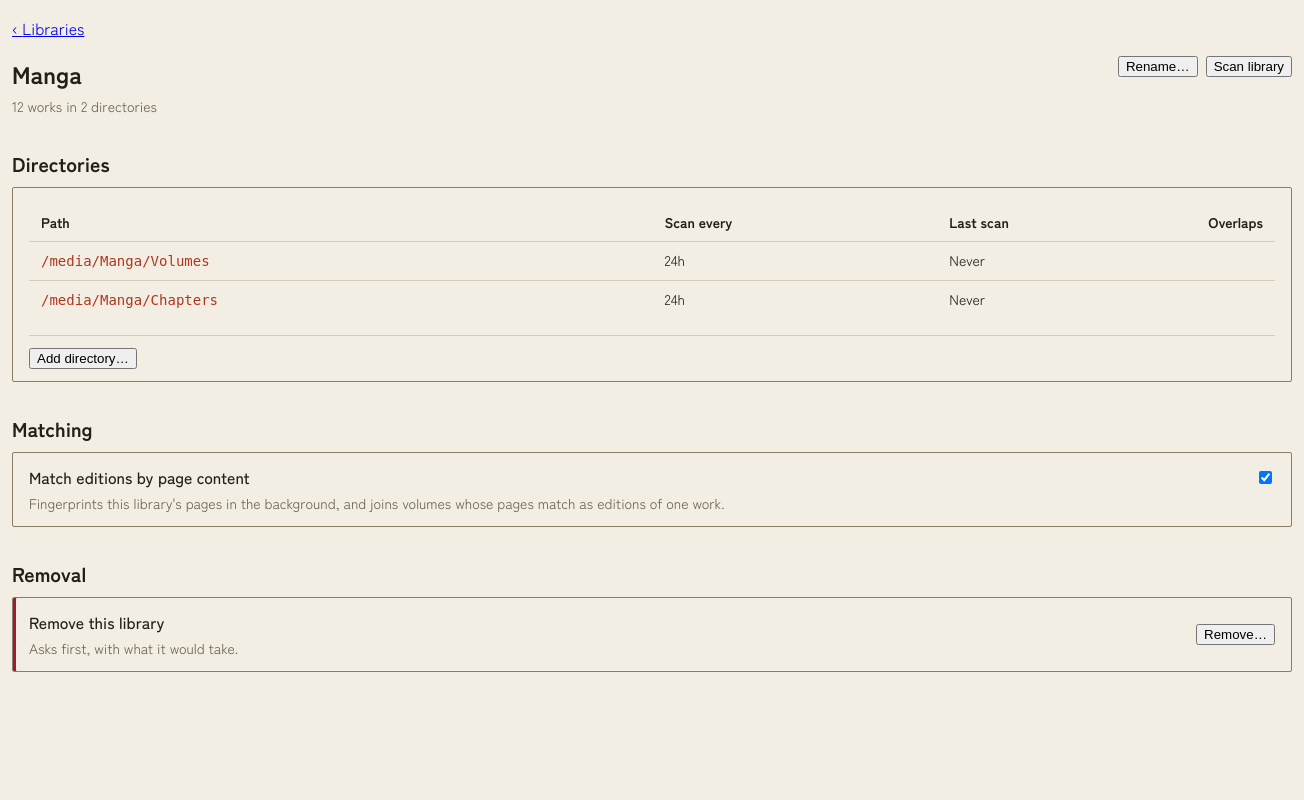
Test: LibraryPage, a library and its directories › draws one Add directory…, and the picker only once it is pressed
The width and height of the screenshot is (1304, 800).
Click the button named "add-dir" at (83, 358), box x1=29 y1=348 x2=137 y2=369
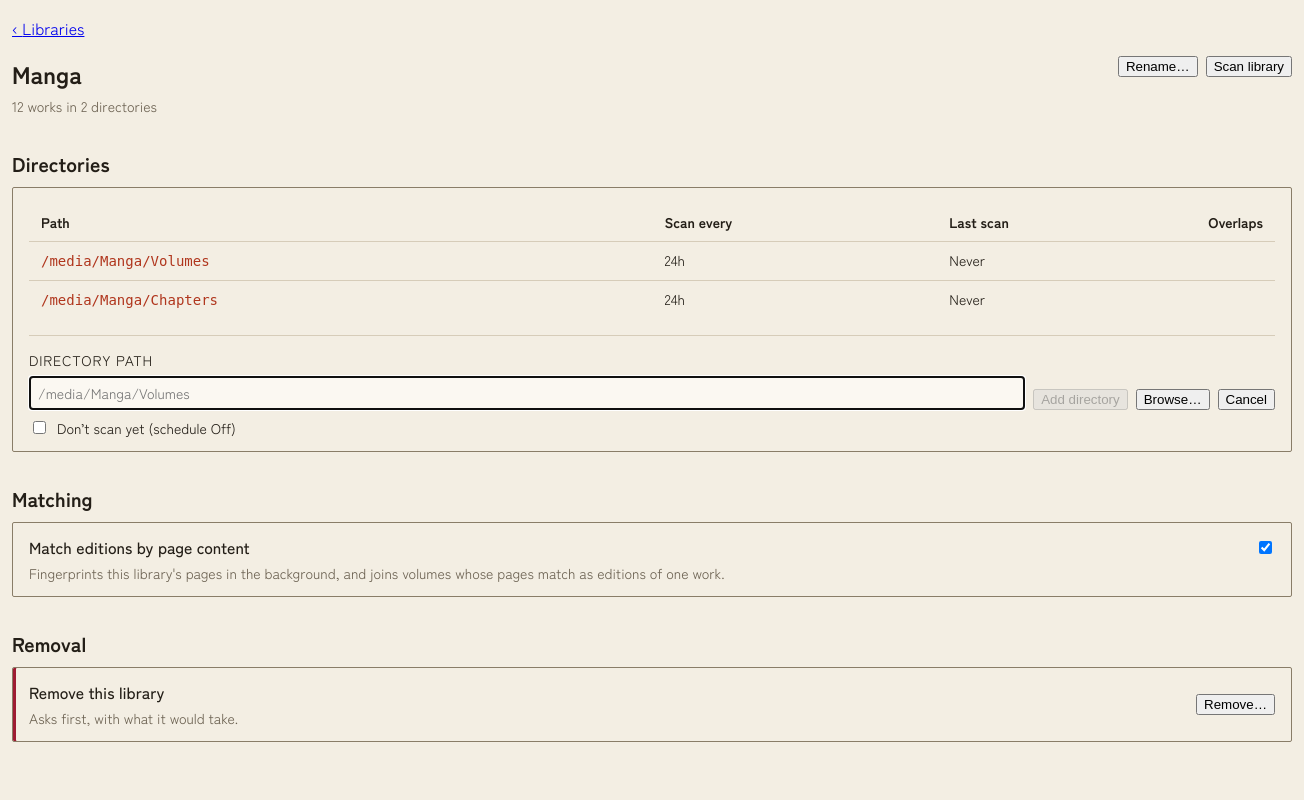
Expected: the button named "pick" reads "Add directory", x1=1033 y1=389 x2=1128 y2=410
Result: the number of fields named "path" is 1 at x1=29 y1=376 x2=1025 y2=410
Result: the button named "add-dir" is gone
Click the button "Cancel" at (1246, 400), box x1=1218 y1=389 x2=1275 y2=410
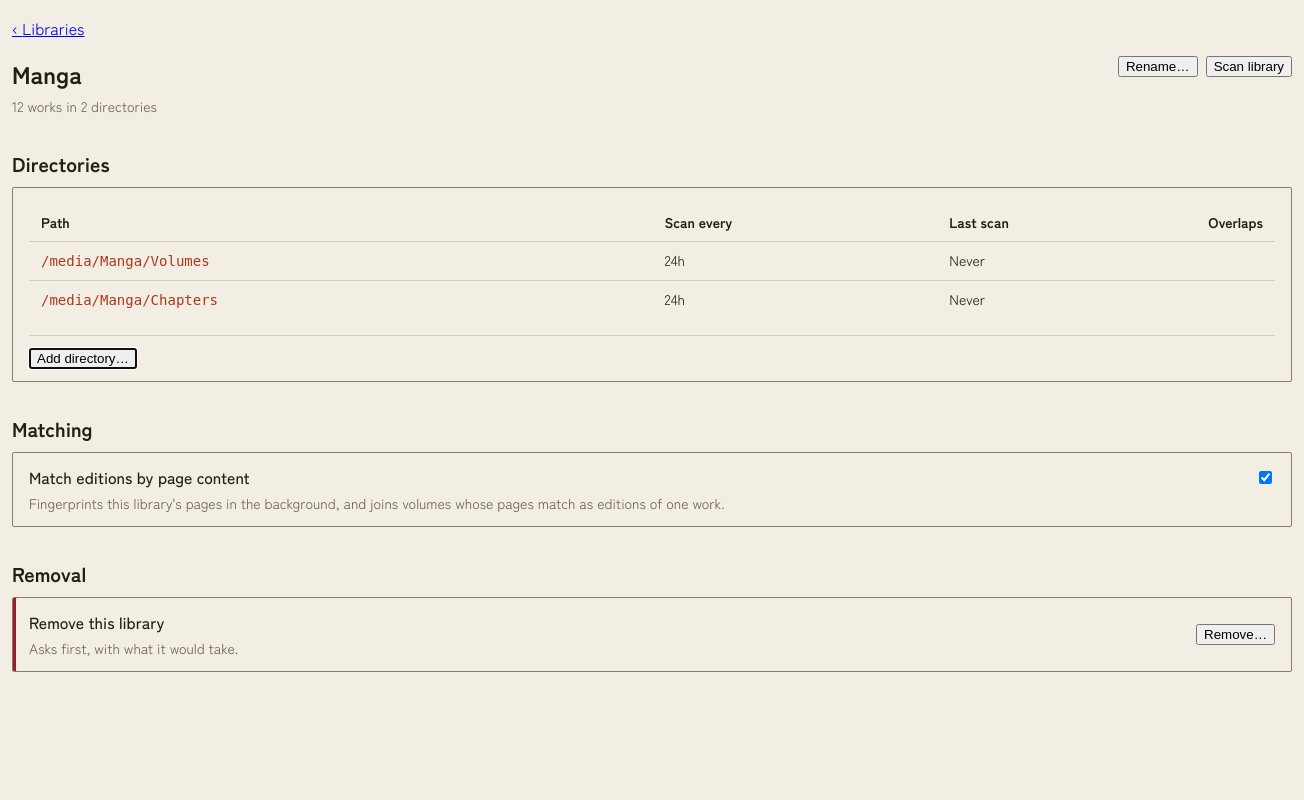
Result: the field named "path" is gone
